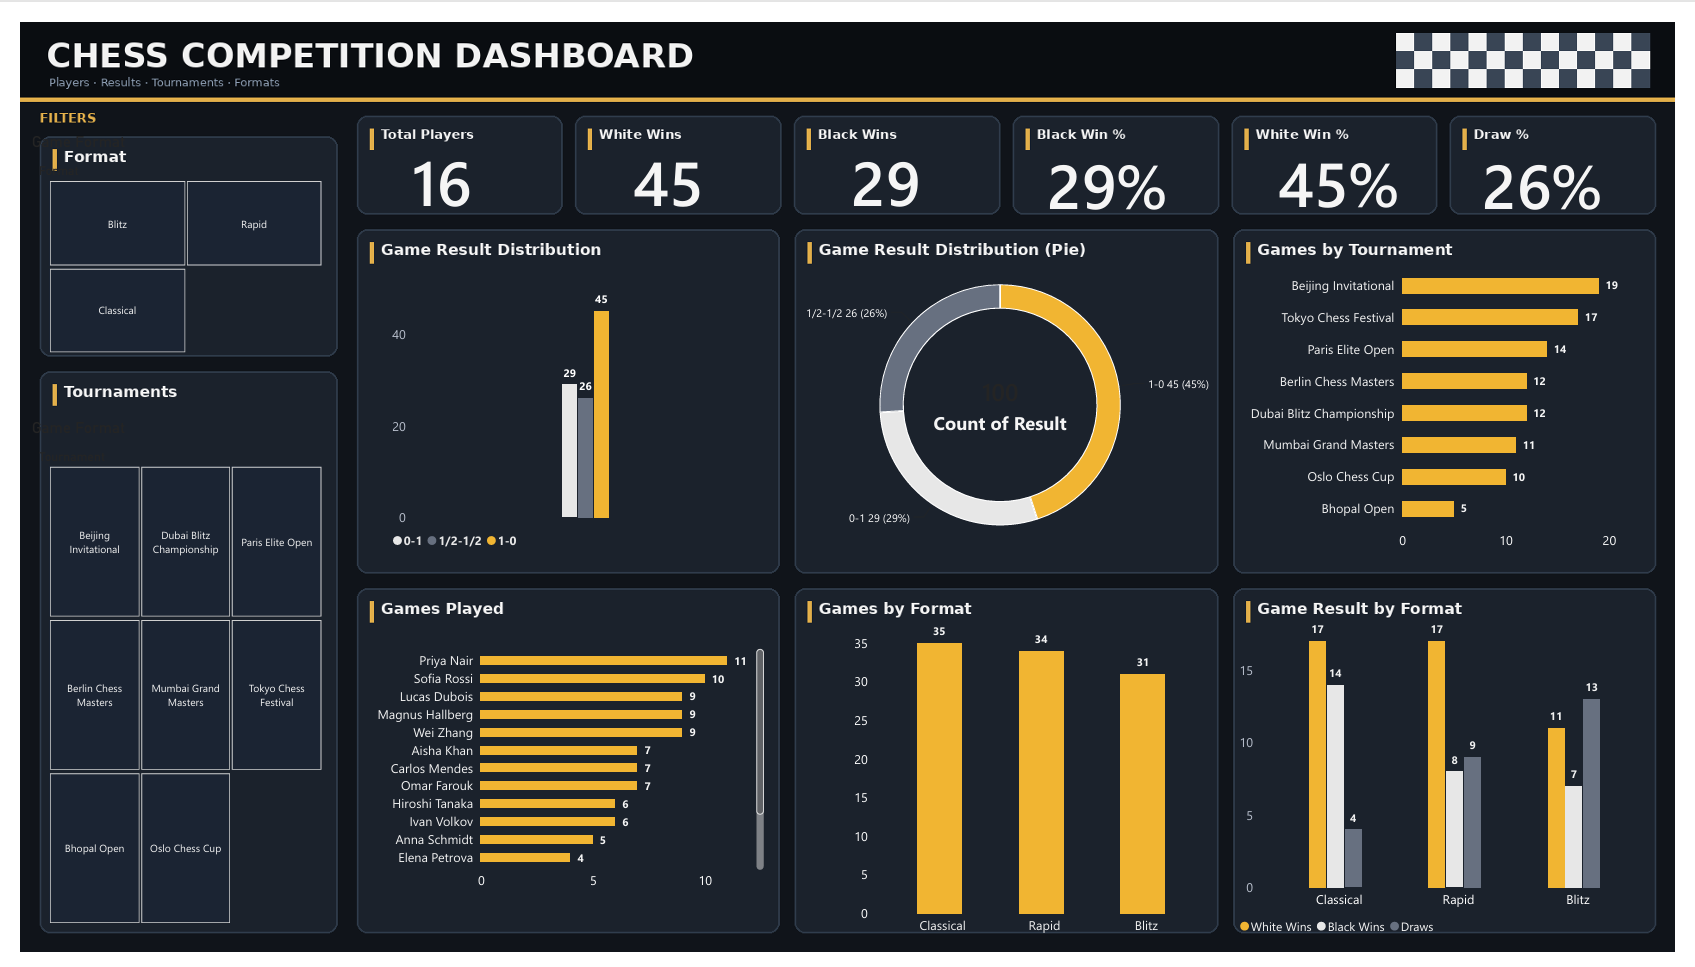

The dashboard page shown, as its layout file describes it:
{"tool":"powerbi","page":{"name":"Page 1","canvas":[1920,1080],"ordinal":0},"visuals":[{"type":"cardVisual","fields":{"Data":["chess_competition_data.Total Players"]},"box":[437.5,127.5,176.6,109.8],"z":0},{"type":"cardVisual","fields":{"Data":["chess_competition_data.White Wins"]},"box":[695,127.5,183.7,109.8],"z":1000},{"type":"cardVisual","fields":{"Data":["chess_competition_data.Black Wins"]},"box":[947.5,112.5,190.9,140.8],"z":2000},{"type":"clusteredColumnChart","title":"Game Result Distribution","fields":{"Series":["chess_competition_data.Result"],"Y":["CountNonNull(chess_competition_data.Result)"]},"box":[415.1,286.3,462.9,346],"z":3000},{"type":"clusteredBarChart","fields":{"Category":["chess_competition_data.White_Player"],"Y":["chess_competition_data.Games Played"]},"box":[388.9,706.2,489.1,322.1],"z":4000},{"type":"donutChart","title":"Game result Distribution","fields":{"Category":["chess_competition_data.Result"],"Y":["CountNonNull(chess_competition_data.Result)"]},"box":[807.5,245,657.5,400],"z":5000},{"type":"clusteredColumnChart","title":"Game by Format","fields":{"Category":["chess_competition_data.Format"],"Y":["chess_competition_data.Total Games"]},"box":[951.2,670,448,410],"z":6000},{"type":"clusteredBarChart","title":"Games by Tournament","fields":{"Category":["chess_competition_data.Tournament"],"Y":["chess_competition_data.Total Games"]},"box":[1397.5,260,480,372.5],"z":7000},{"type":"clusteredColumnChart","title":"Game result by format","fields":{"Category":["chess_competition_data.Format"],"Y":["chess_competition_data.White Wins","chess_competition_data.Black Wins","chess_competition_data.Draws"]},"box":[1397.5,670,515,410],"z":8000},{"type":"cardVisual","fields":{"Data":["chess_competition_data.Black Win %"]},"box":[1175,127.5,198,116.9],"z":9000},{"type":"cardVisual","fields":{"Data":["chess_competition_data.White Win %"]},"box":[1442.5,105,212.3,157.5],"z":10000},{"type":"cardVisual","fields":{"Data":["chess_competition_data.Draw %"]},"box":[1680,112.5,231.4,145.5],"z":11000},{"type":"slicer","title":"Game Format","fields":{"Values":["chess_competition_data.Format"]},"box":[12.5,127.5,355,257.5],"z":12000},{"type":"slicer","title":"Game Format","fields":{"Values":["chess_competition_data.Tournament"]},"box":[12.5,460,355,587.5],"z":13000}]}

Visuals, with their boxes in screenshot pixels (x1, y1, x2, y2), scaled from the page's 1920x1080 canvas onto the 1695x967 screenshot:
cardVisual - chess_competition_data.Total Players: [386, 114, 542, 212]
cardVisual - chess_competition_data.White Wins: [614, 114, 776, 212]
cardVisual - chess_competition_data.Black Wins: [836, 101, 1005, 227]
"Game Result Distribution" clusteredColumnChart: [366, 256, 775, 566]
clusteredBarChart - chess_competition_data.White_Player x chess_competition_data.Games Played: [343, 632, 775, 921]
"Game result Distribution" donutChart: [713, 219, 1293, 578]
"Game by Format" clusteredColumnChart: [840, 600, 1235, 966]
"Games by Tournament" clusteredBarChart: [1234, 233, 1657, 566]
"Game result by format" clusteredColumnChart: [1234, 600, 1688, 966]
cardVisual - chess_competition_data.Black Win %: [1037, 114, 1212, 219]
cardVisual - chess_competition_data.White Win %: [1273, 94, 1461, 235]
cardVisual - chess_competition_data.Draw %: [1483, 101, 1687, 231]
"Game Format" slicer: [11, 114, 324, 345]
"Game Format" slicer: [11, 412, 324, 938]
